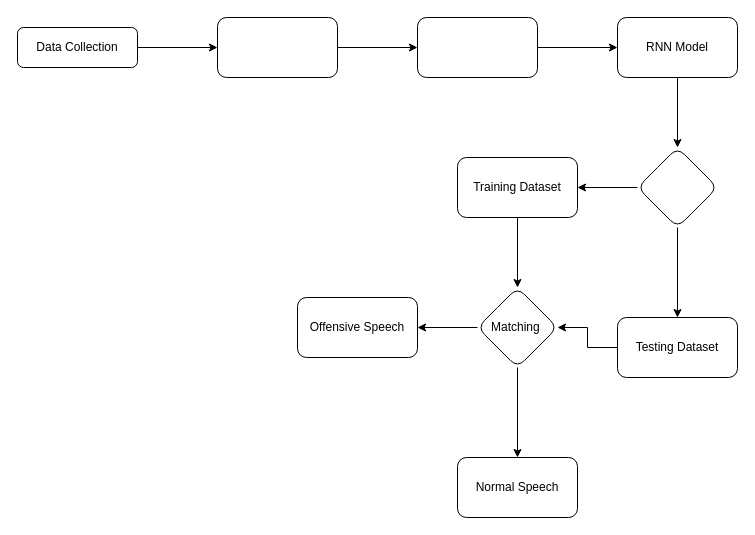
Image size: 755x535. Some labels were removed from this diagram. The centre of each missing label's shape, as x and y in pixels:
Data Preprocessing: (277,47)
Dataset: (677,187)
Feature Extraction: (477,47)
